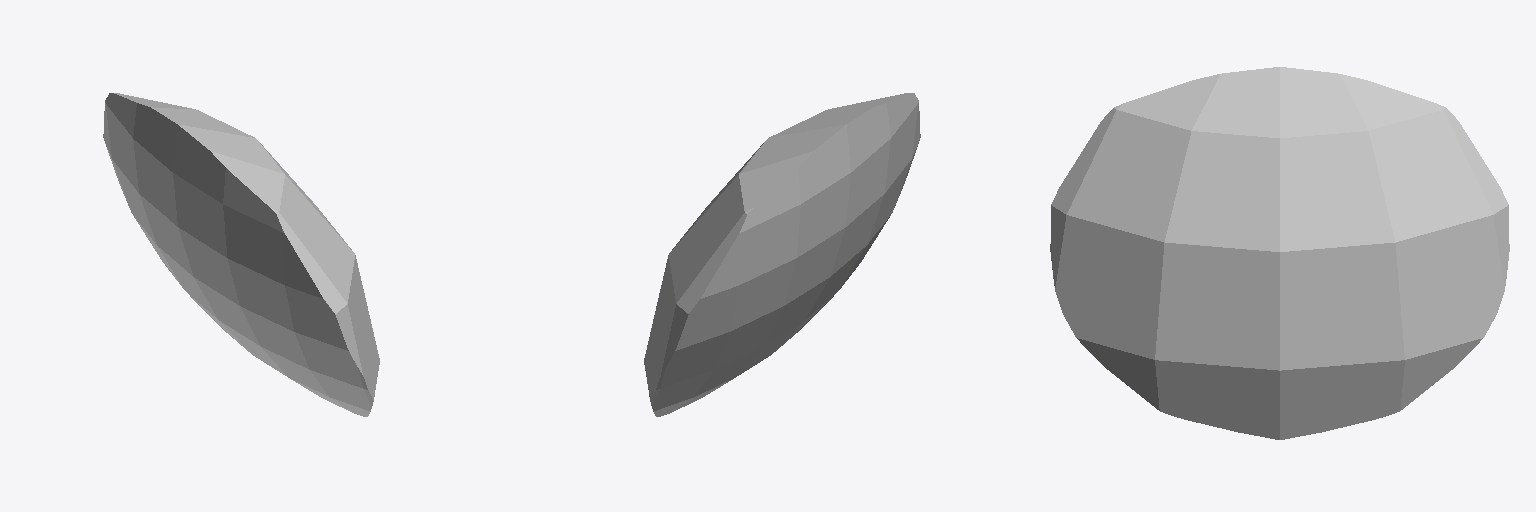
Rendered from ApplePieceBitten.obj.
3 renders of one model, left to right at view 1: azimuth 30°, elevation 25°; view 2: azimuth 150°, elevation 25°; view 3: azimuth 270°, elevation 25°, orthographic.
Parts seen in each view (by area): view 1: Cutout_Sphere; view 2: Cutout_Sphere; view 3: Cutout_Sphere.
Part boxes in pixels (left/top/right/bottom): Cutout_Sphere: left=103, top=93, right=379, bottom=416; Cutout_Sphere: left=644, top=93, right=920, bottom=416; Cutout_Sphere: left=1050, top=67, right=1509, bottom=439.
Size of the model in its own units: 0.5875 by 1.02 by 1.41.